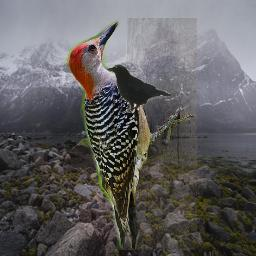Crow: (105, 63, 171, 113)
Woodpecker: (60, 18, 197, 250)
